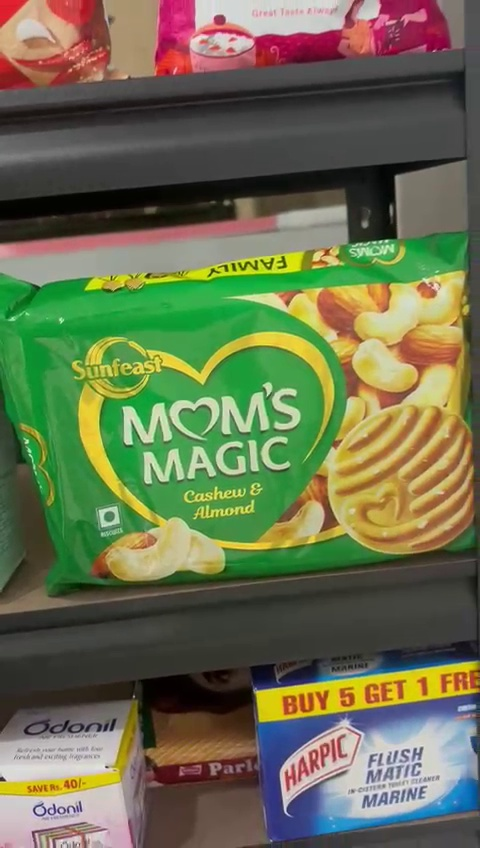Moms magic: (0, 270, 480, 588)
